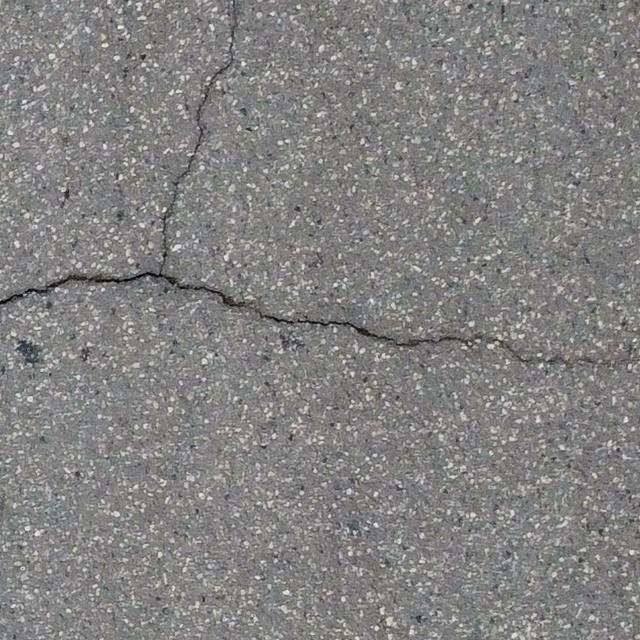LongitudinalCrack: (158, 1, 239, 272)
TransverseCrack: (1, 273, 603, 366)
